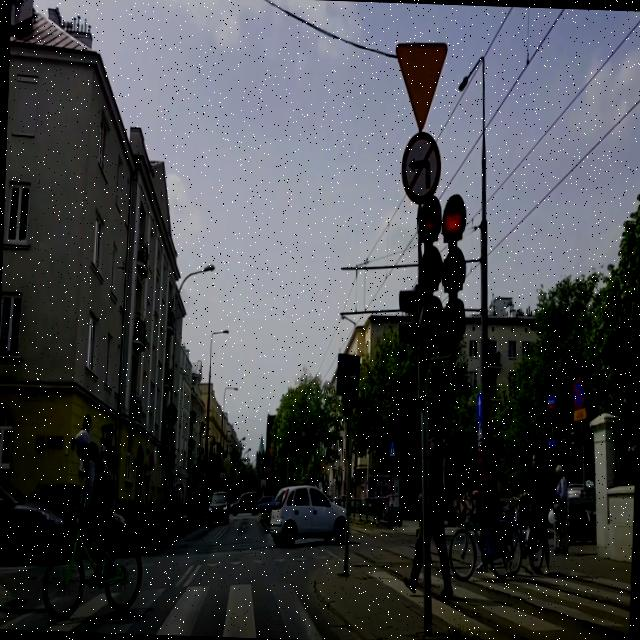Przejscie dla pieszych: (388, 438, 396, 459), (476, 419, 484, 439)
Ustap pierwszenstwa: (392, 42, 447, 130), (267, 444, 274, 458), (319, 458, 326, 471)
Zakaz zatrzymywania sie: (570, 377, 586, 408)
